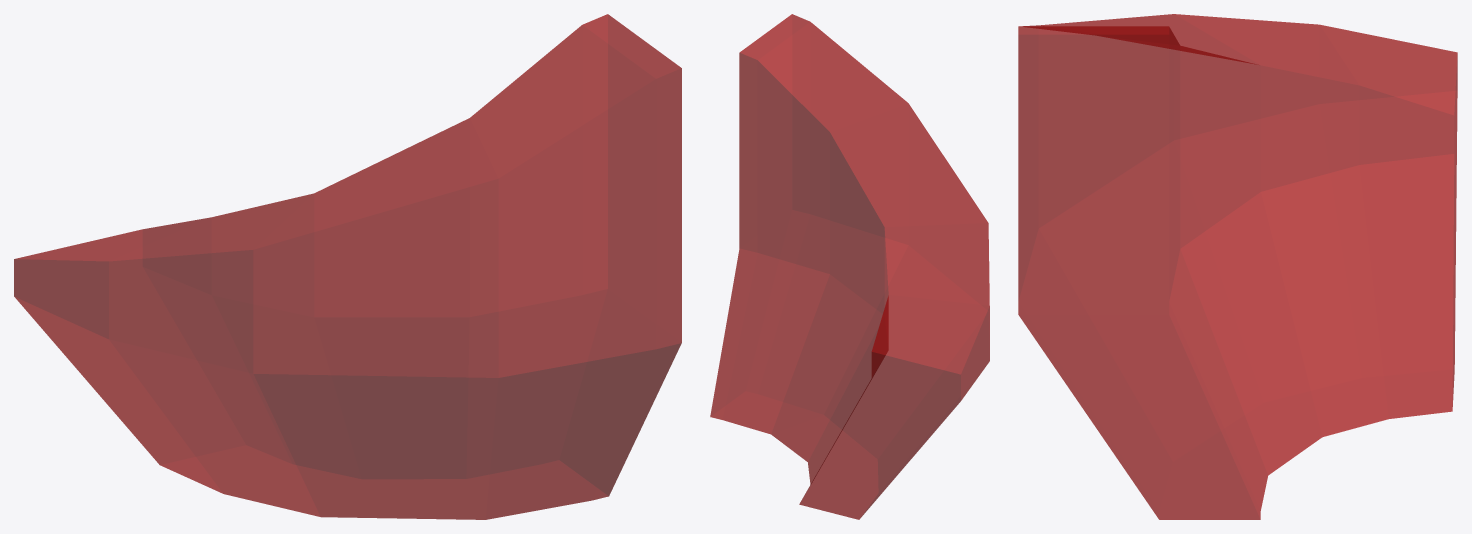
File: SM_Bld_Castle_Wall_Corner_L_Base_Slope_Stairs_01_Collision.fbx
3 views of the same model, side by side, from view 1: azimuth 30°, elevation 25°; view 2: azimuth 150°, elevation 25°; view 3: azimuth 270°, elevation 25° (orthographic). The views are drawn at different scales.
Parts seen in each view (by area): view 1: SM_Bld_Castle_Wall_Corner_L_Base_Slope_Stairs_01_Collision; view 2: SM_Bld_Castle_Wall_Corner_L_Base_Slope_Stairs_01_Collision; view 3: SM_Bld_Castle_Wall_Corner_L_Base_Slope_Stairs_01_Collision.
Boxes of the visible parts, box(x1,y1,x2,y2) form: SM_Bld_Castle_Wall_Corner_L_Base_Slope_Stairs_01_Collision: box(14, 14, 681, 519); SM_Bld_Castle_Wall_Corner_L_Base_Slope_Stairs_01_Collision: box(710, 14, 989, 519); SM_Bld_Castle_Wall_Corner_L_Base_Slope_Stairs_01_Collision: box(1018, 14, 1457, 519).
Bounding box in the file's own units: 952 × 963 × 785.
